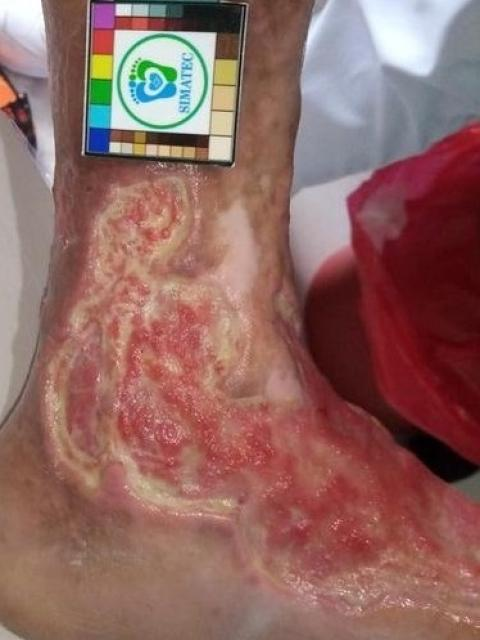wound: (54, 175, 479, 622)
